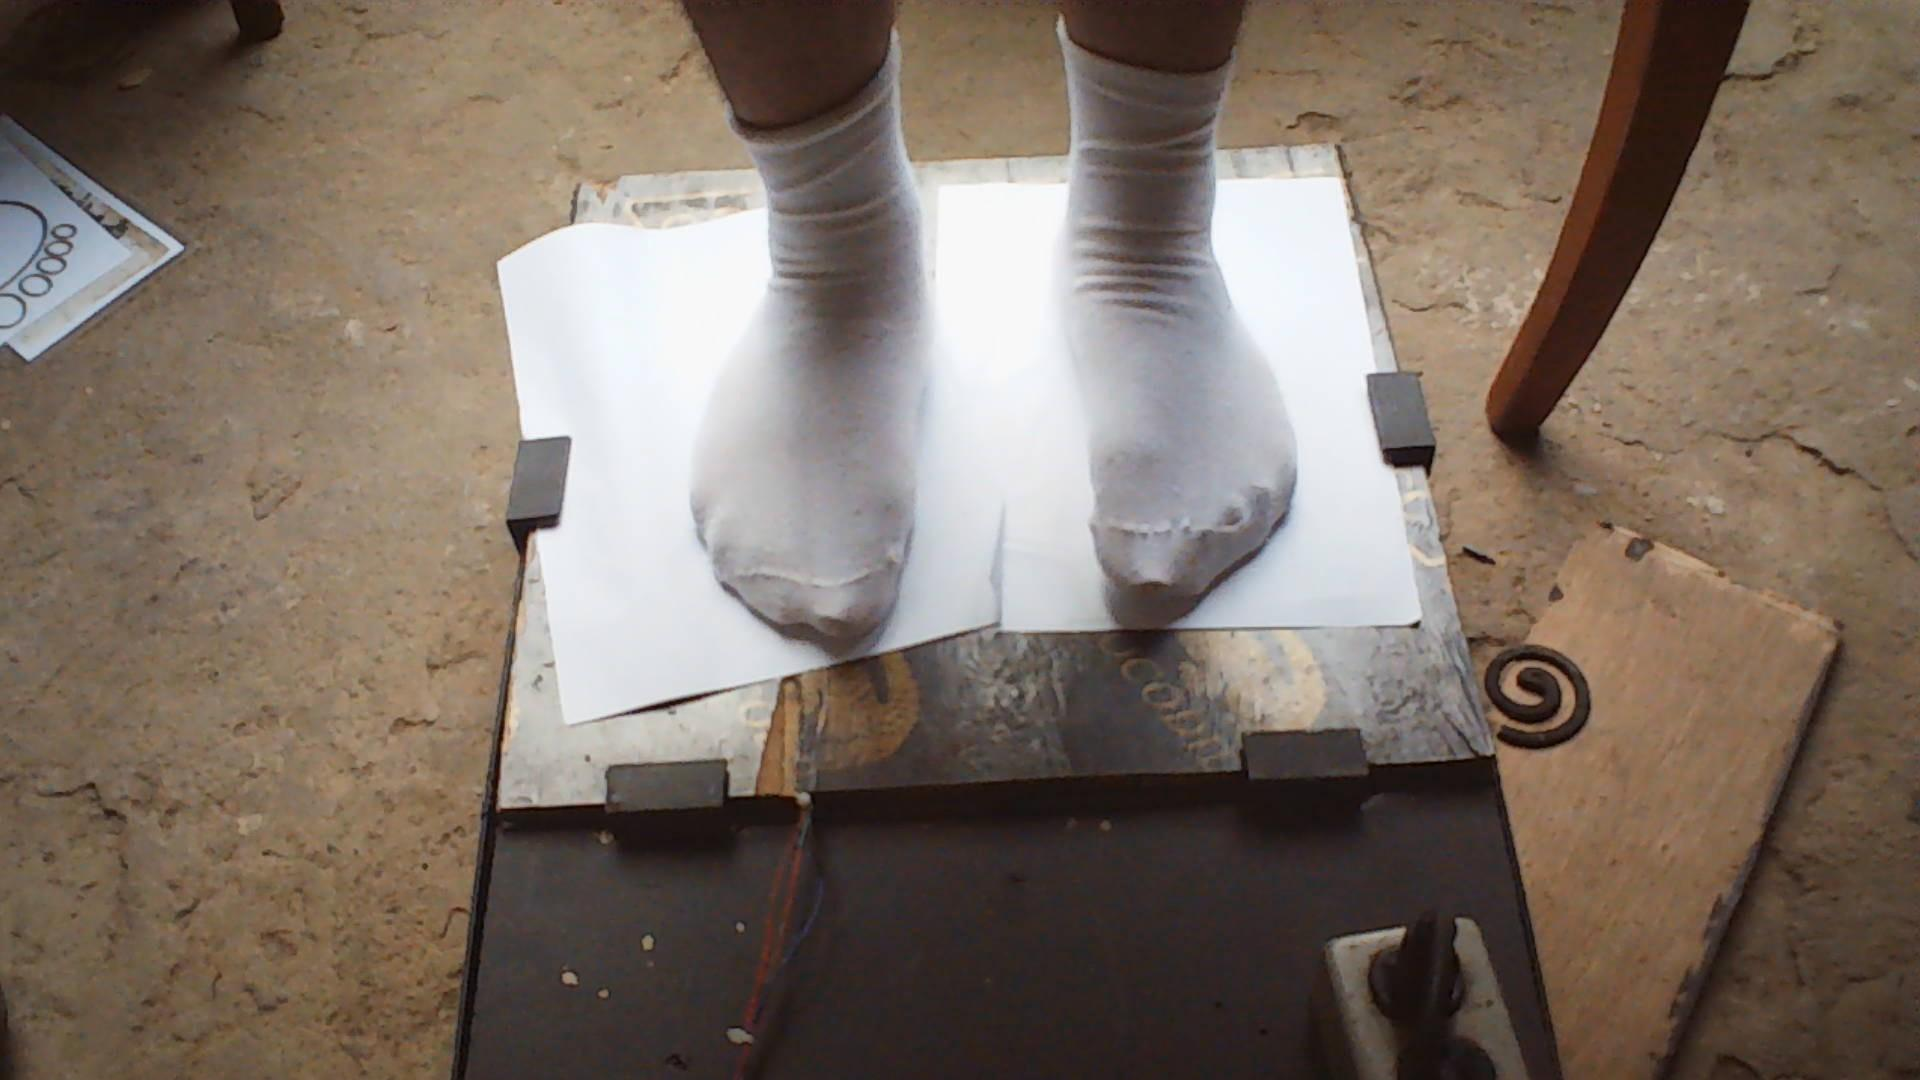white_socks: (667, 47, 965, 667), (1030, 22, 1308, 650)
